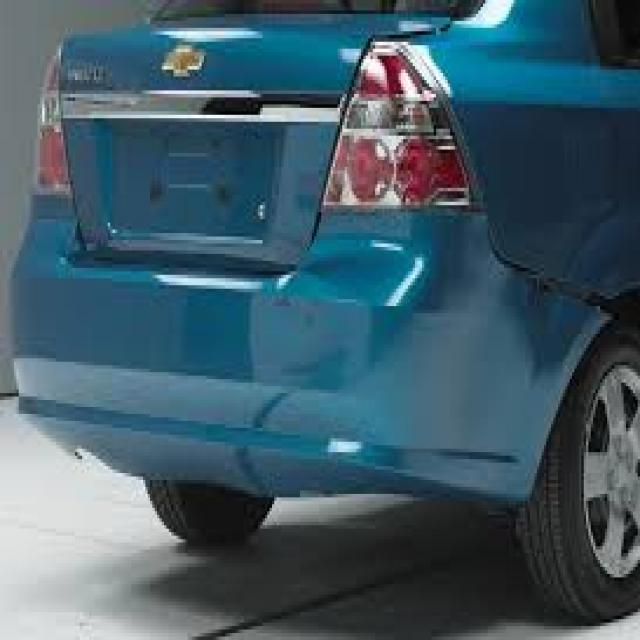minor: (450, 107, 628, 366)
